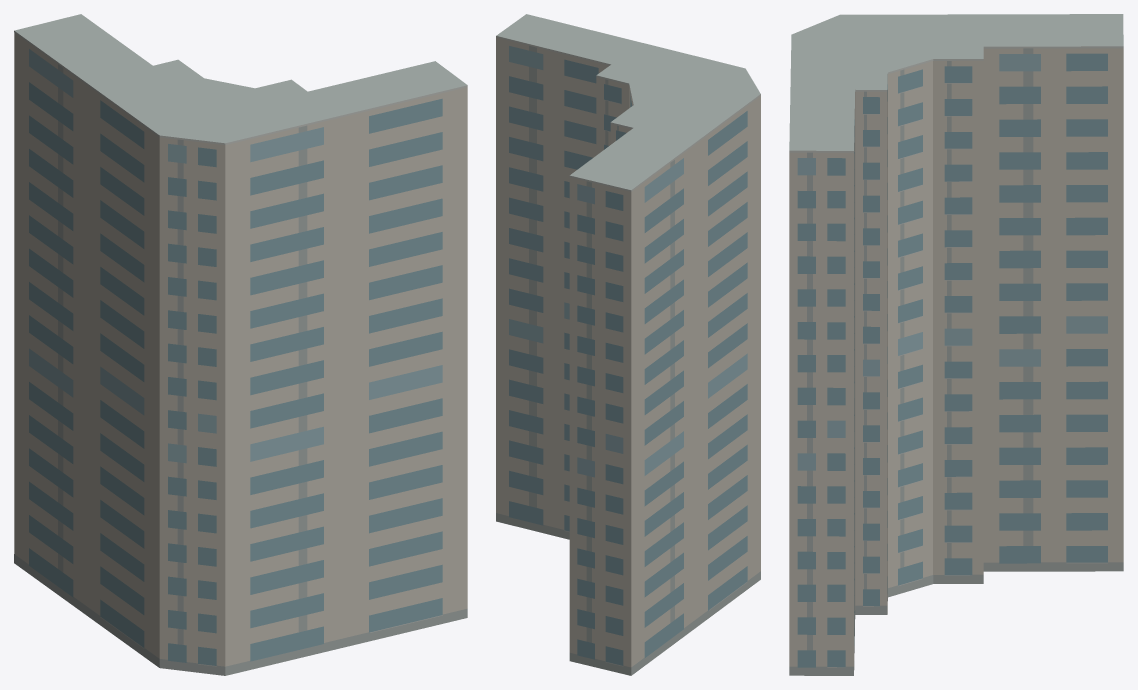
File: residential-cdbb7bad-eb31-47e1-b5c1-9203f036cba9.glb
3 renders of one model, left to right at view 1: azimuth 30°, elevation 25°; view 2: azimuth 150°, elevation 25°; view 3: azimuth 270°, elevation 25°, orthographic. The views are drawn at different scales.
Visible parts, largest first — view 1: residential-cdbb7bad-eb31-47e1-b5c1-9203f036cba9.tmp; view 2: residential-cdbb7bad-eb31-47e1-b5c1-9203f036cba9.tmp; view 3: residential-cdbb7bad-eb31-47e1-b5c1-9203f036cba9.tmp.
Part boxes in pixels (x1,y1,x2,y2): residential-cdbb7bad-eb31-47e1-b5c1-9203f036cba9.tmp: (14, 14, 467, 675); residential-cdbb7bad-eb31-47e1-b5c1-9203f036cba9.tmp: (496, 14, 760, 675); residential-cdbb7bad-eb31-47e1-b5c1-9203f036cba9.tmp: (789, 14, 1123, 675).
Bounding box in the file's own units: 39.11 × 69.9 × 40.35.
